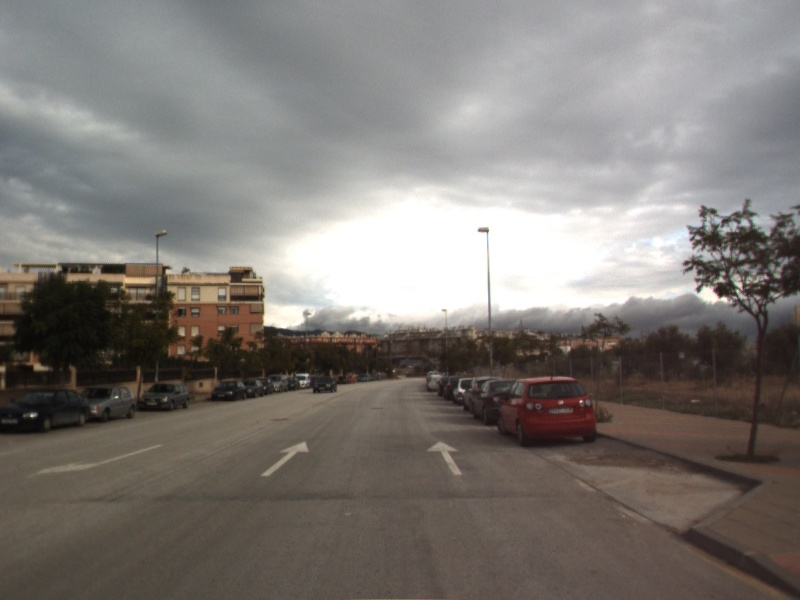STRAIGHT: (259, 439, 311, 478), (425, 439, 464, 477)
